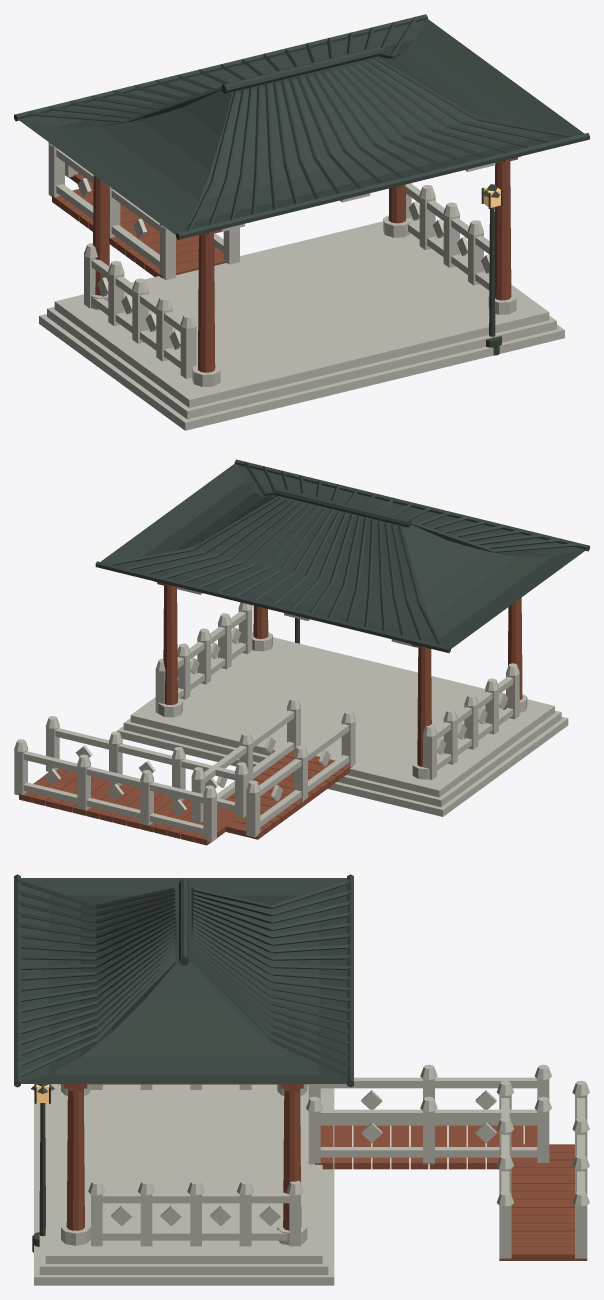
The model's file is liulang.glb.
3 renders of one model, top to bottom at view 1: azimuth 30°, elevation 25°; view 2: azimuth 150°, elevation 25°; view 3: azimuth 270°, elevation 25°, orthographic. The views are drawn at different scales.
Visible parts, largest first — view 1: Limestone, Dark_Tile, Lacquered_Wood, Patinated_Iron; view 2: Limestone, Dark_Tile, Lacquered_Wood; view 3: Limestone, Dark_Tile, Lacquered_Wood, Patinated_Iron.
Part boxes in pixels (bbox=[...]): Limestone: bbox=[39, 142, 564, 430]; Dark_Tile: bbox=[14, 14, 589, 239]; Lacquered_Wood: bbox=[52, 156, 520, 372]; Patinated_Iron: bbox=[481, 184, 502, 355]; Limestone: bbox=[14, 587, 568, 842]; Dark_Tile: bbox=[95, 459, 589, 653]; Lacquered_Wood: bbox=[19, 581, 522, 845]; Limestone: bbox=[34, 1064, 589, 1285]; Dark_Tile: bbox=[14, 874, 353, 1087]; Lacquered_Wood: bbox=[58, 1084, 587, 1260]; Patinated_Iron: bbox=[31, 1084, 54, 1252].
Bounding box in the file's own units: 7.46 × 4.61 × 8.82.
